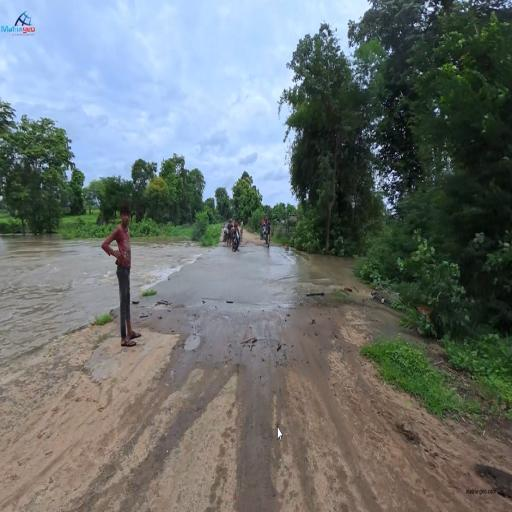pothole: (182, 323, 214, 362), (156, 294, 175, 318)
